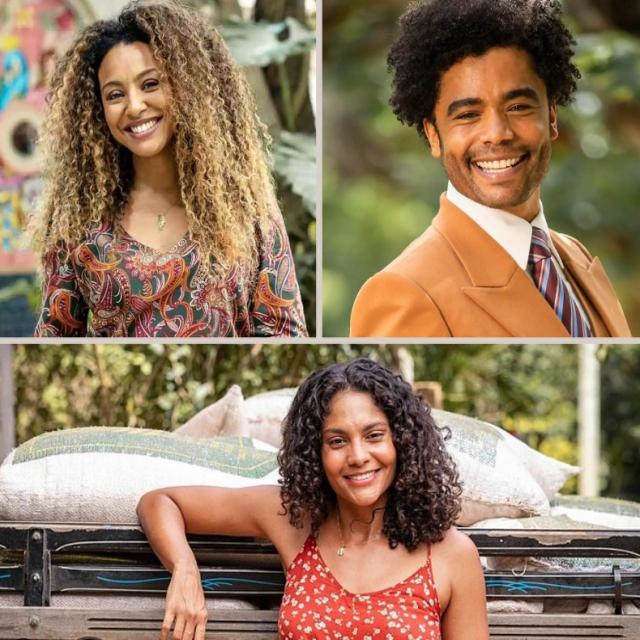sem_oculos: (416, 80, 560, 121), (86, 62, 185, 103), (306, 417, 413, 453)
